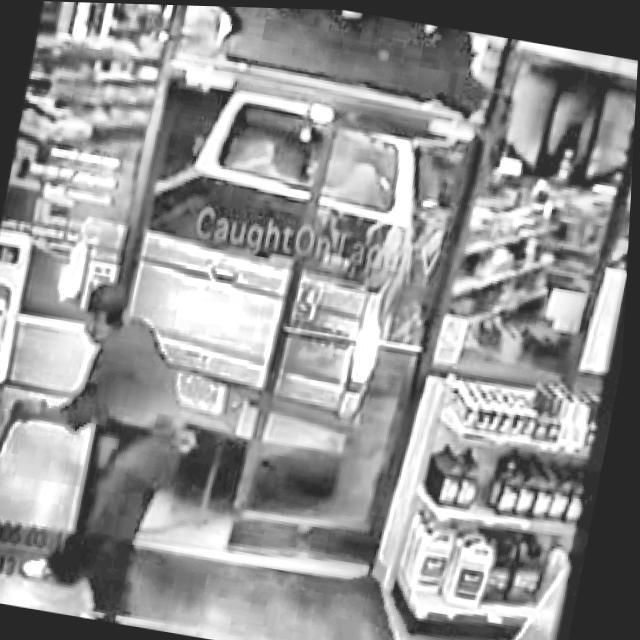burglary: (124, 71, 483, 499), (0, 257, 217, 628)
